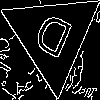D: (27, 11, 75, 68)
